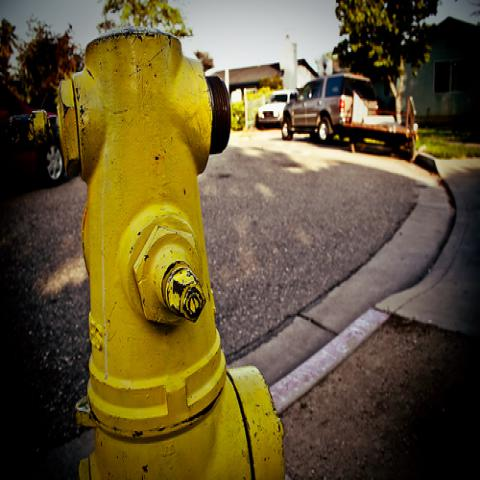car: (284, 76, 385, 134), (0, 114, 64, 187), (256, 88, 300, 130)
